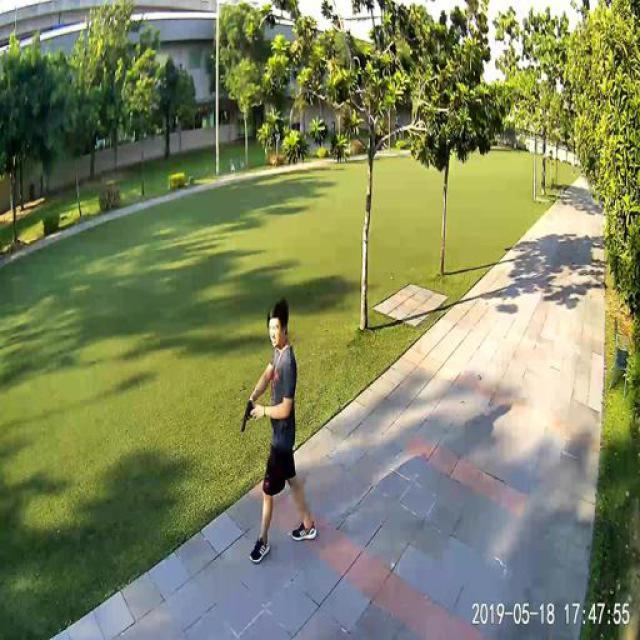weapon: (240, 400, 256, 432)
